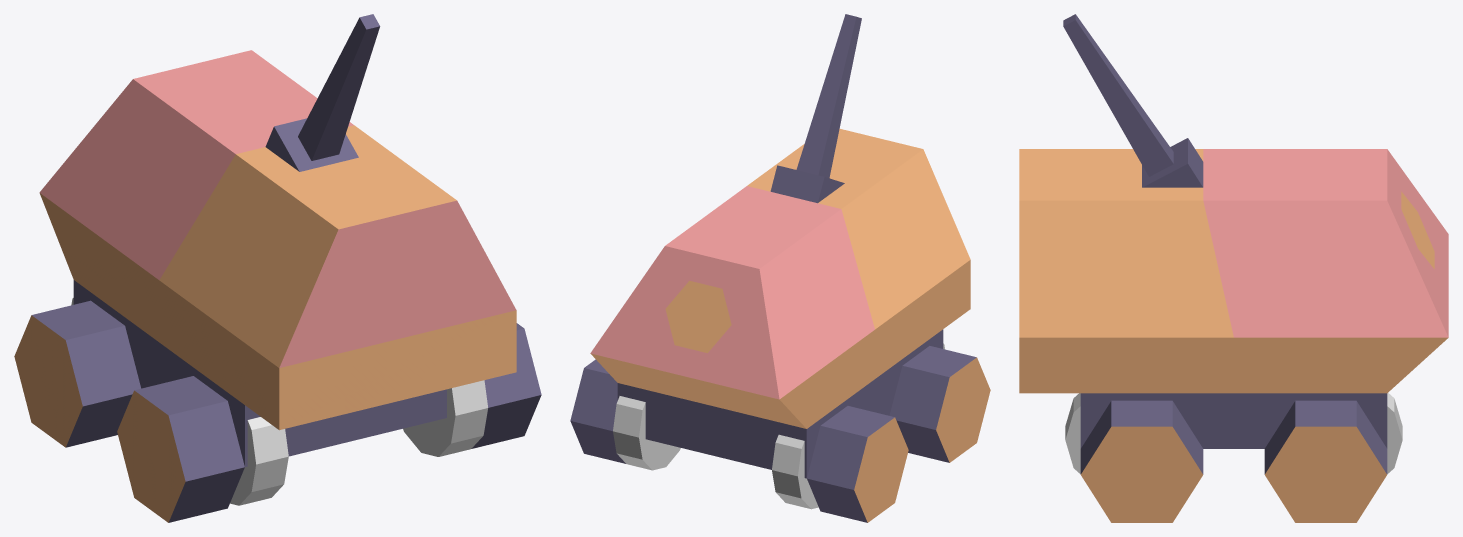
The model's file is robot_beetle.glb.
3 views of the same model, side by side, from view 1: azimuth 30°, elevation 25°; view 2: azimuth 150°, elevation 25°; view 3: azimuth 270°, elevation 25° (orthographic). The views are drawn at different scales.
Visible parts, largest first — view 1: rover, wheel_br, wheel_bl; view 2: rover, wheel_fr, wheel_fl; view 3: rover, wheel_br, wheel_fr.
Part boxes in pixels (x1,y1,x2,y2): rover: [14, 14, 541, 522]; wheel_br: [403, 380, 487, 456]; wheel_bl: [230, 417, 288, 505]; rover: [570, 14, 990, 522]; wheel_fr: [613, 396, 680, 470]; wheel_fl: [772, 434, 818, 509]; rover: [1019, 14, 1448, 522]; wheel_br: [1065, 393, 1080, 473]; wheel_fr: [1387, 393, 1402, 473].
Size of the model in its own units: 0.5451 by 0.7 by 0.6359.
